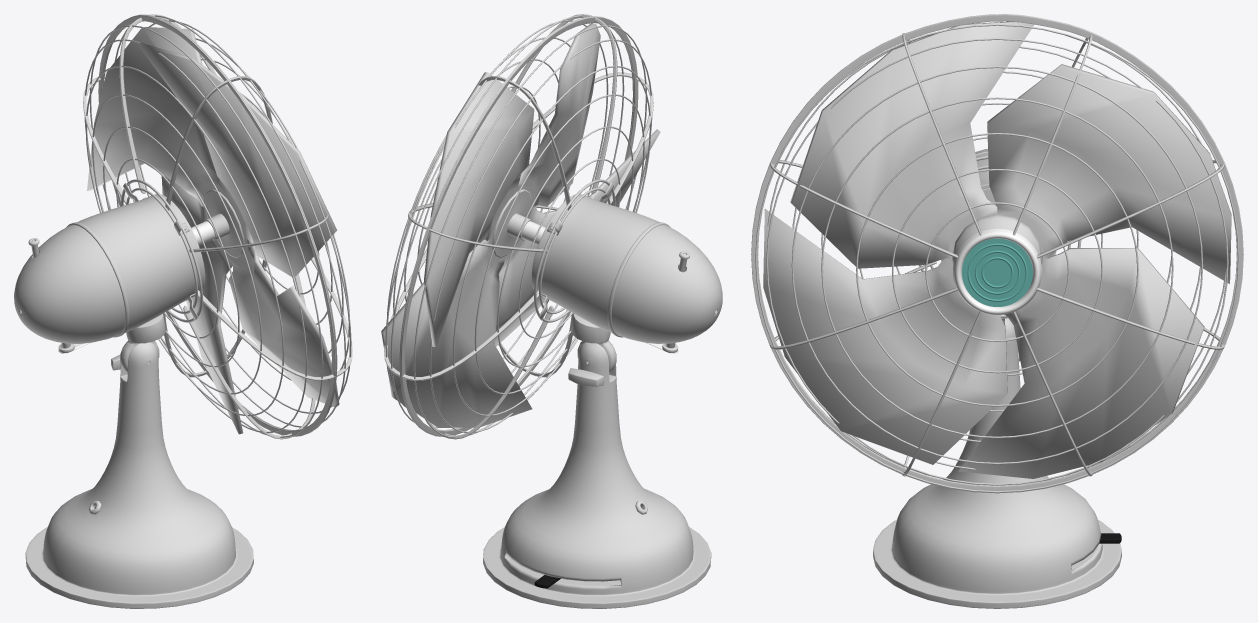
Rendered from ventilo.glb.
The picture shows the model from 3 angles, left to right: view 1: azimuth 30°, elevation 25°; view 2: azimuth 150°, elevation 25°; view 3: azimuth 270°, elevation 25°; orthographic projection. The views are drawn at different scales.
Parts seen in each view (by area): view 1: blade.001, base, guard, motorHousing, axis, 圓柱體.005; view 2: blade.001, base, guard, motorHousing, axis, 圓柱體.005, 立方體.004; view 3: blade.001, guard, base, axis.
Part boxes in pixels (x1,y1,x2,y2): blade.001: (87, 27, 339, 434); base: (25, 342, 253, 608); guard: (83, 14, 352, 439); motorHousing: (14, 194, 214, 343); axis: (204, 184, 244, 258); 圓柱體.005: (120, 314, 165, 372); blade.001: (381, 23, 660, 427); base: (483, 342, 711, 608); guard: (384, 14, 653, 439); motorHousing: (522, 194, 722, 343); axis: (492, 189, 532, 258); 圓柱體.005: (570, 314, 616, 372); 立方體.004: (568, 368, 603, 386); blade.001: (763, 21, 1231, 478); guard: (751, 14, 1243, 493); base: (873, 318, 1121, 608); axis: (952, 214, 1042, 264).
Bounding box in the file's own units: 1.37 × 2.57 × 2.03.
